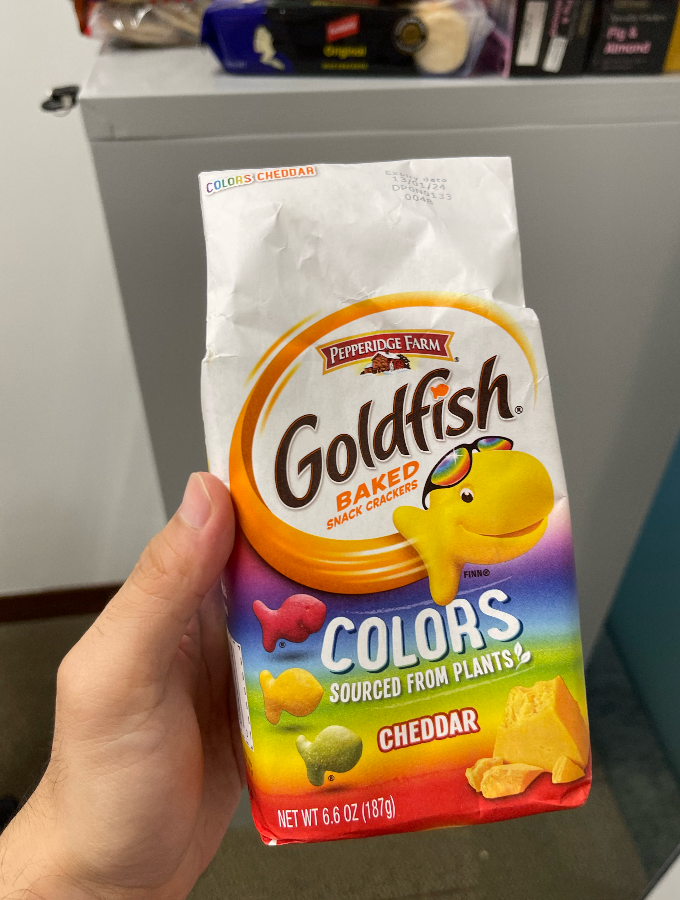crackers_100g-199g: (240, 245, 590, 817)
